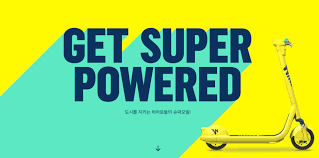kick_body: (232, 135, 281, 141)
kick_handler: (274, 39, 292, 53)
kick_neck: (279, 59, 300, 116)
kick_wheel: (202, 127, 228, 150), (290, 129, 315, 149)
